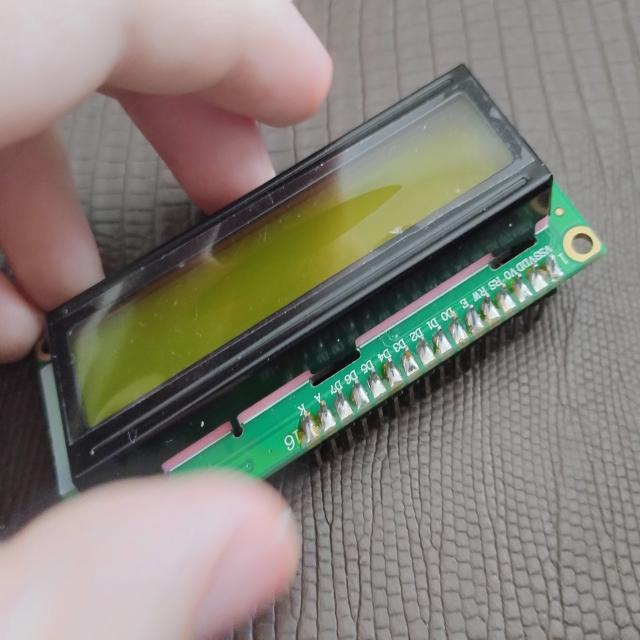lcd: (15, 66, 607, 524)
